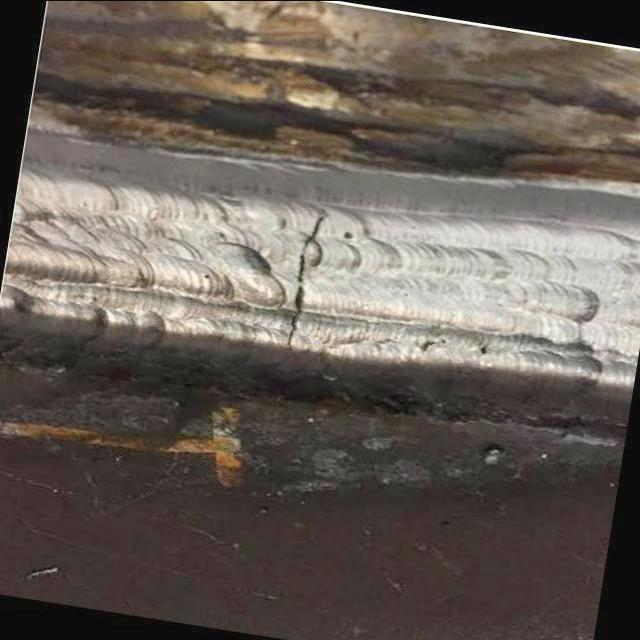defect: (282, 212, 327, 352)
